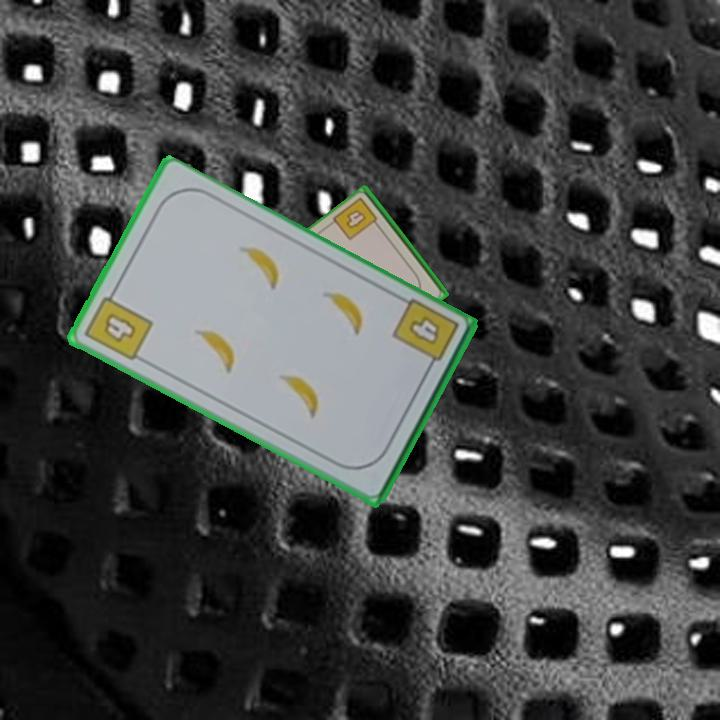4b: (388, 295, 462, 376), (81, 285, 156, 364), (330, 194, 384, 244)
